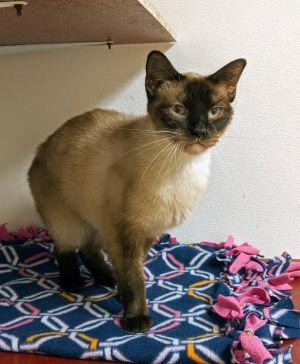siamese: (141, 52, 247, 157)
